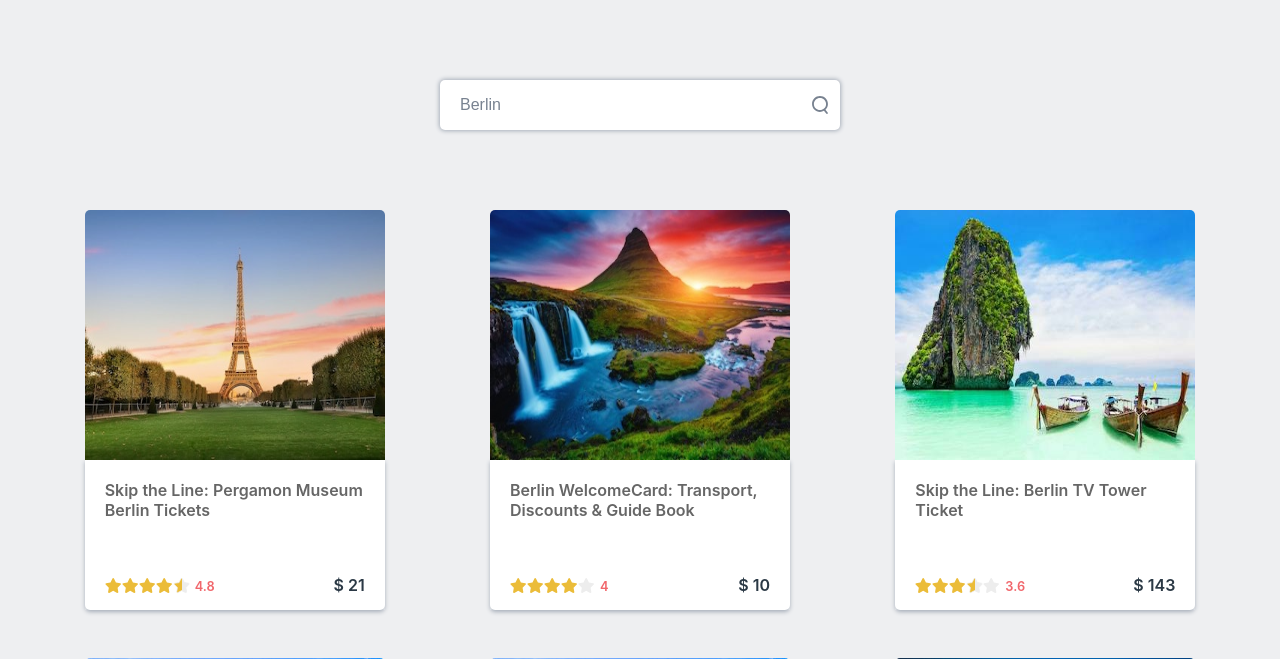
Tours displayed on dashboard › shows no result string when match is found
The width and height of the screenshot is (1280, 659).
Step 1. Replace the text in the field with "shdkshkshdk" → (640, 105), box [440, 80, 840, 130]
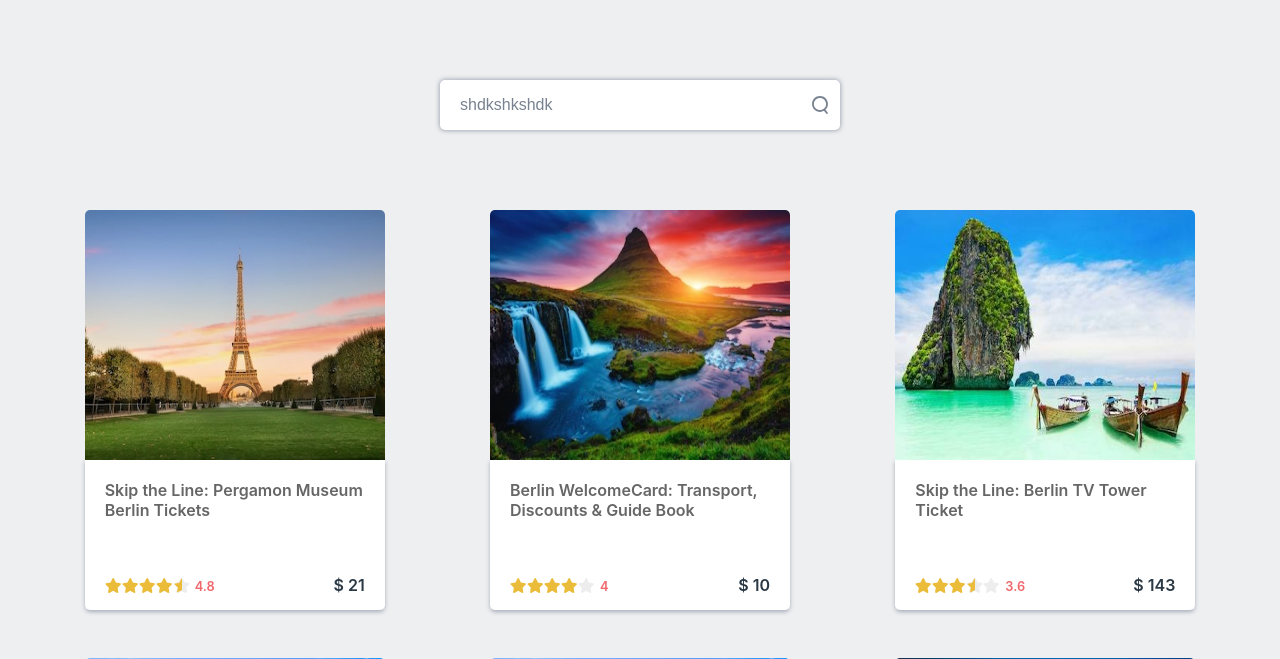
Step 2. Click the button with class "icon--search" → (820, 105), box [800, 85, 840, 125]
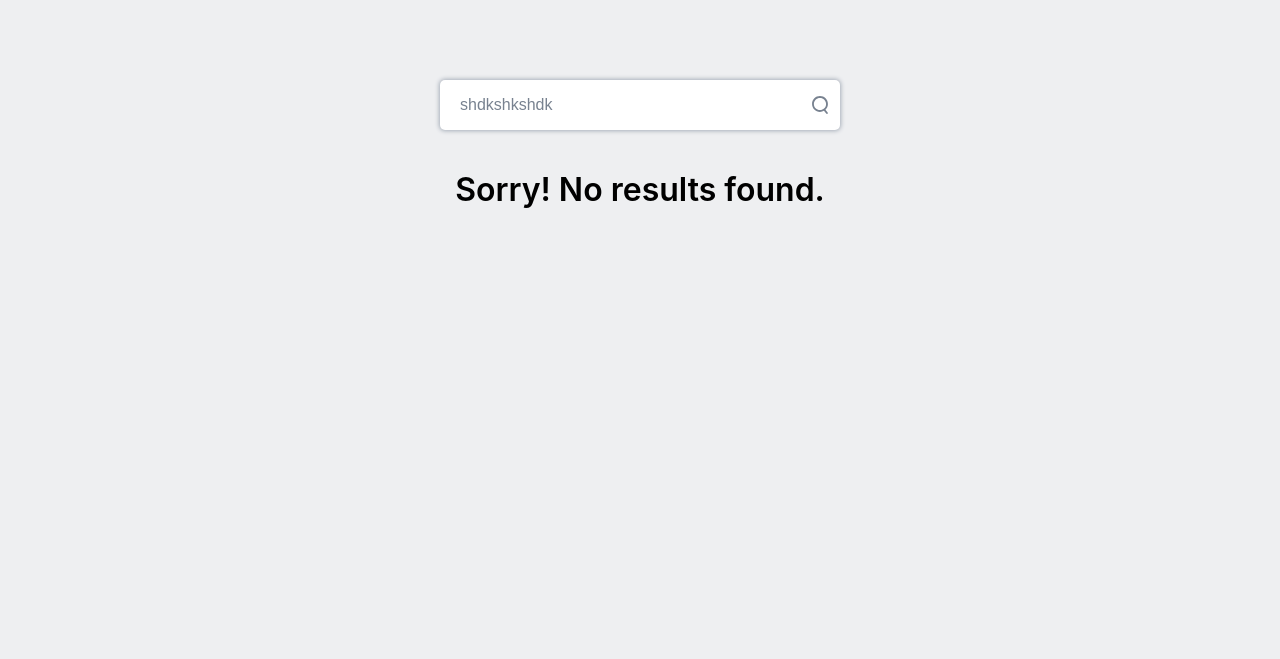
Expected: no list items with class "tile" are shown
Expected: the text with class "no-show" reads "Sorry! No results found.", [455, 170, 825, 209]
